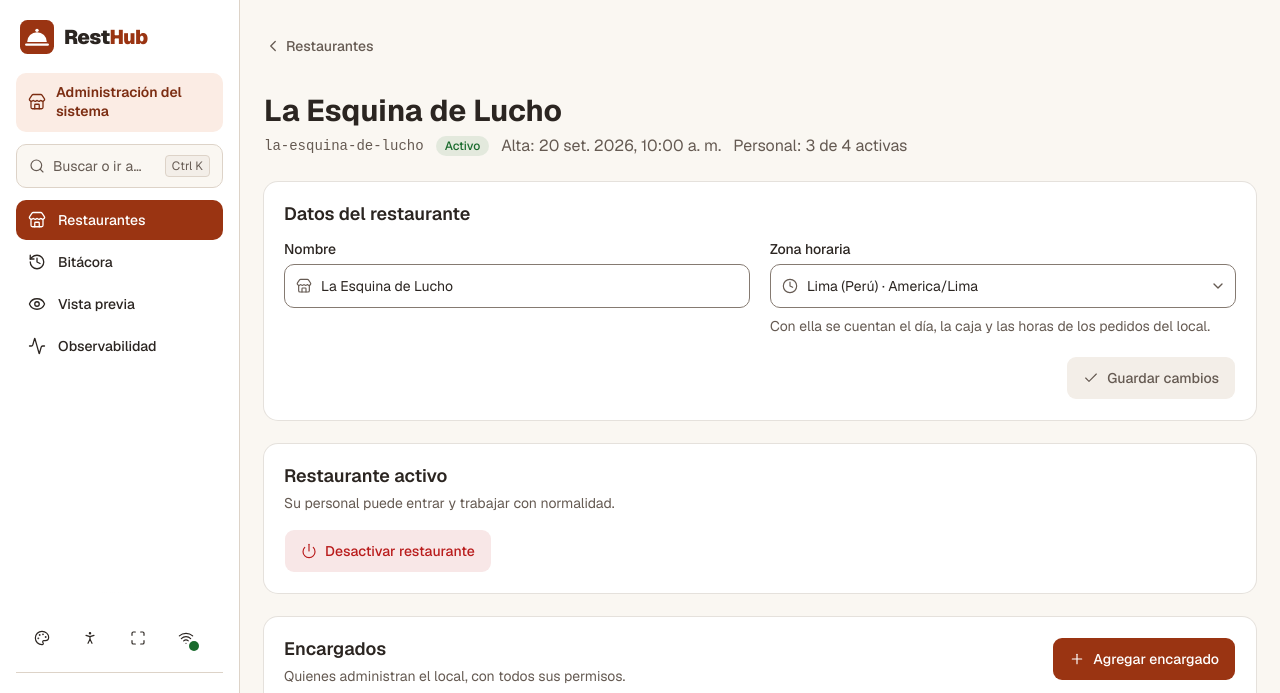
Test case: RestaurantDetailView › cambiar la zona horaria manda solo la zona
The width and height of the screenshot is (1280, 693).
Select "Bogotá (Colombia) · America/Bogota" in the dropdown labelled "Zona horaria" at (1003, 286), box [770,264,1236,308]
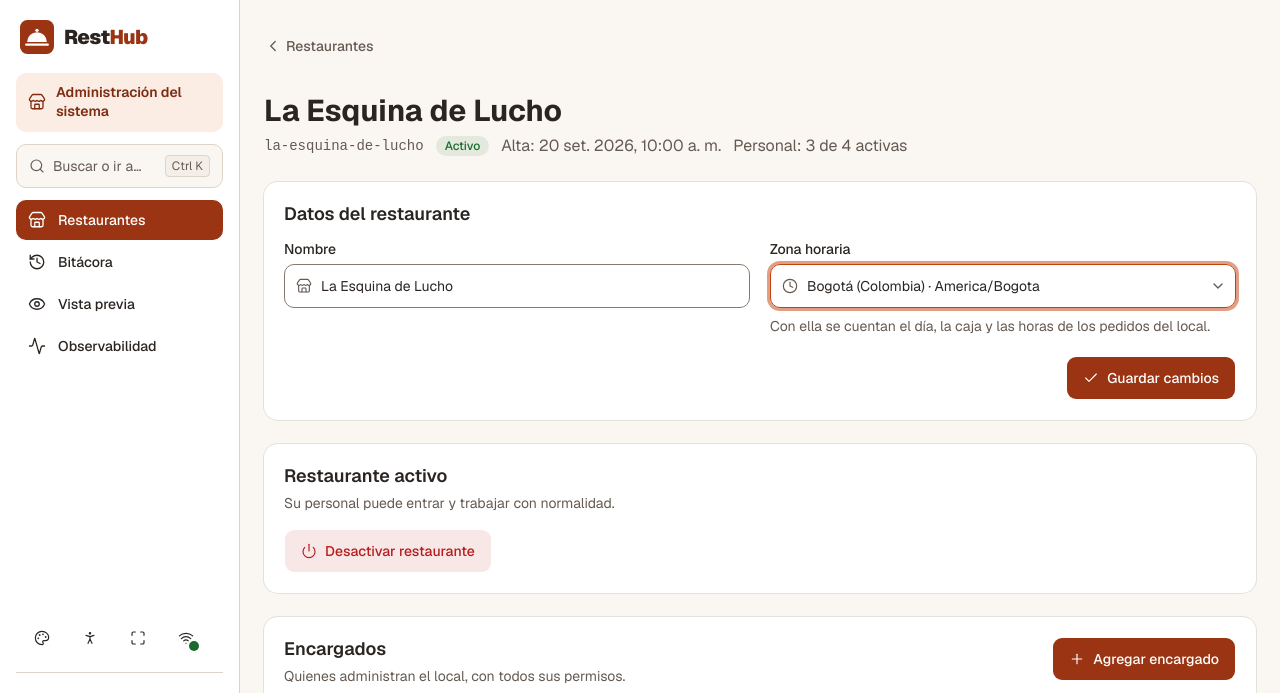
Click the button "Guardar cambios".
click(1151, 378)  # box [1066,356,1236,400]
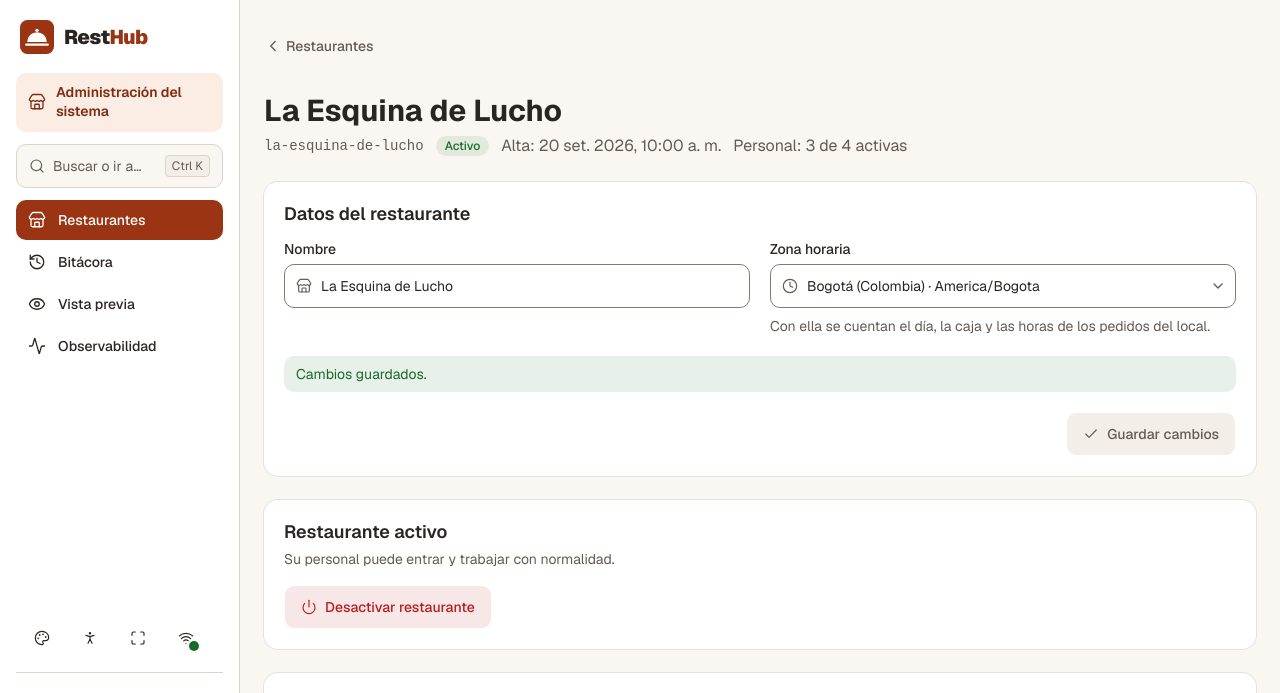
Expected: the text "Cambios guardados." is shown, [284,356,1236,392]
